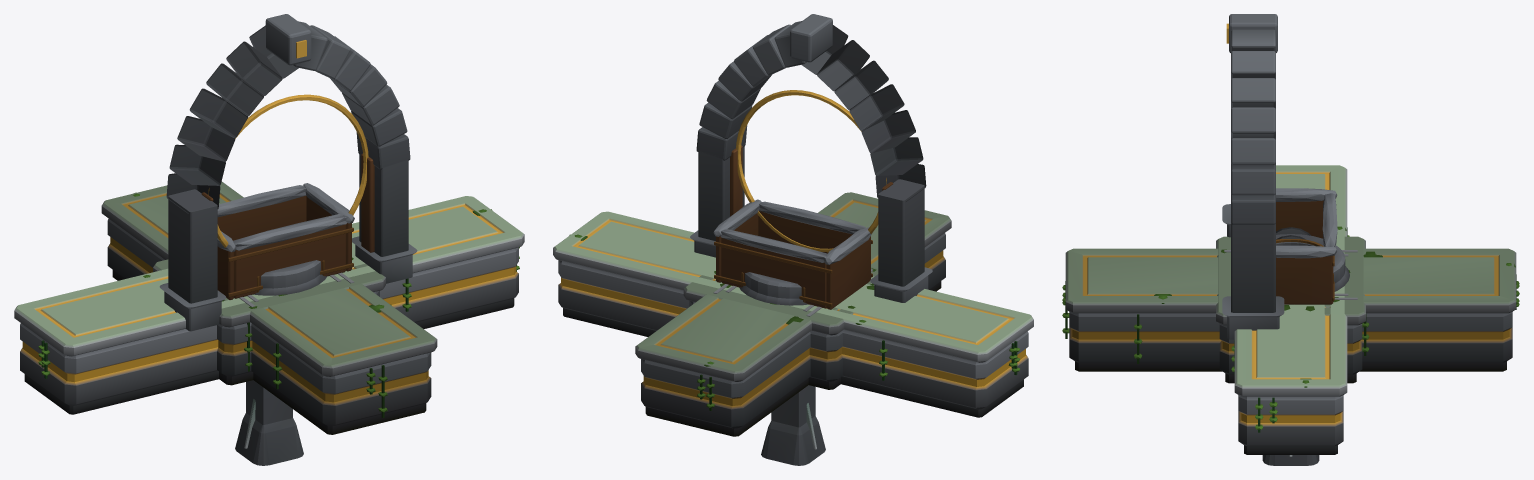
The model's file is temple-2-BzBy8JQt.glb.
3 views of the same model, side by side, from view 1: azimuth 30°, elevation 25°; view 2: azimuth 150°, elevation 25°; view 3: azimuth 270°, elevation 25° (orthographic). The views are drawn at different scales.
Parts seen in each view (by area): view 1: block_28x2x6#0, portal_#0, block_7x2x24#0, hopper_6x3#0, support_0_square#0, block_10x2x8#0, geyserVent_3.9#0; view 2: block_28x2x6#0, portal_#0, block_7x2x24#0, hopper_6x3#0, support_0_square#0, block_10x2x8#0, geyserVent_3.9#0; view 3: block_7x2x24#0, block_28x2x6#0, portal_#0, hopper_6x3#0, block_10x2x8#0, geyserVent_3.9#0, support_0_square#0, block_6x2x7#0.
Boxes of the visible parts, x1,y1,x2,y2 form: block_28x2x6#0: (14,196,524,414); portal_#0: (159,14,417,331); block_7x2x24#0: (101,181,437,434); hopper_6x3#0: (217,183,354,299); support_0_square#0: (235,380,303,465); block_10x2x8#0: (153,257,385,385); geyserVent_3.9#0: (253,260,326,295); block_28x2x6#0: (553,211,1033,417); portal_#0: (690,14,932,302); block_7x2x24#0: (635,192,951,436); hopper_6x3#0: (713,199,872,309); support_0_square#0: (761,385,825,465); block_10x2x8#0: (683,267,878,389); geyserVent_3.9#0: (739,272,808,305); block_7x2x24#0: (1062,248,1519,371); block_28x2x6#0: (1231,165,1349,454); portal_#0: (1222,14,1284,339); hopper_6x3#0: (1276,188,1337,304); block_10x2x8#0: (1216,236,1369,383); geyserVent_3.9#0: (1276,234,1349,291); support_0_square#0: (1262,455,1319,465); block_6x2x7#0: (1228,252,1353,297).
Bounding box in the file's own units: 28.34 × 25.59 × 24.34.
